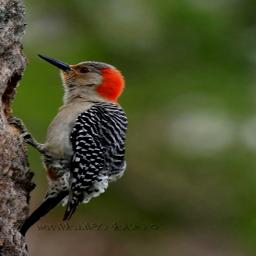Woodpecker: (12, 48, 140, 247)
